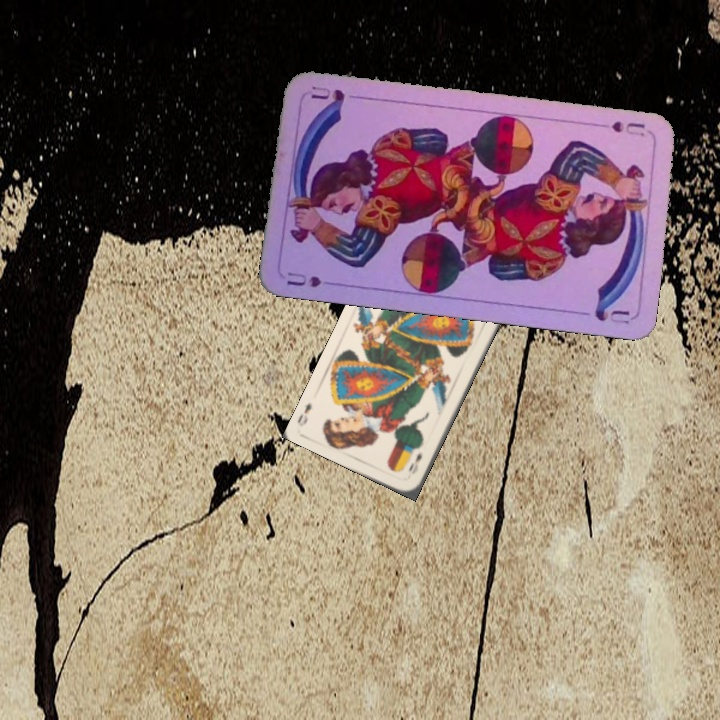EO: (404, 449, 424, 477)
SU: (282, 268, 324, 290), (607, 117, 648, 139)
